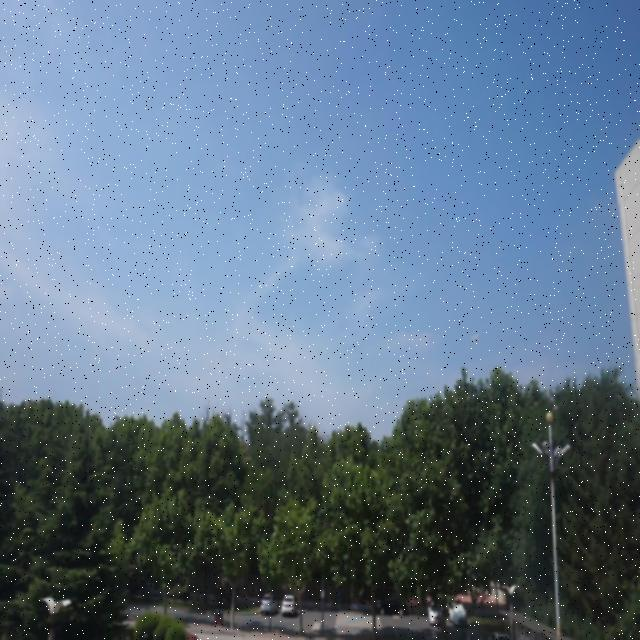UAV: (471, 334, 479, 341)
